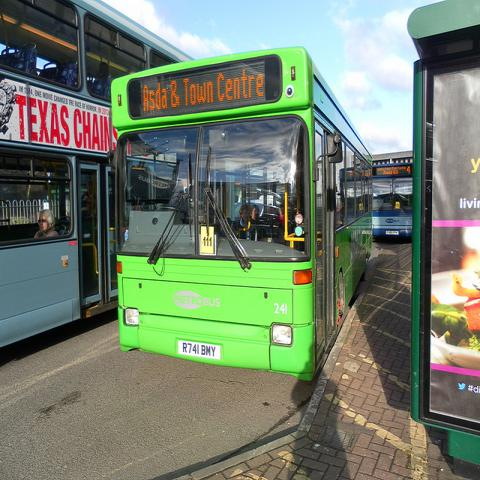bus: (2, 3, 414, 351), (109, 51, 372, 382)
